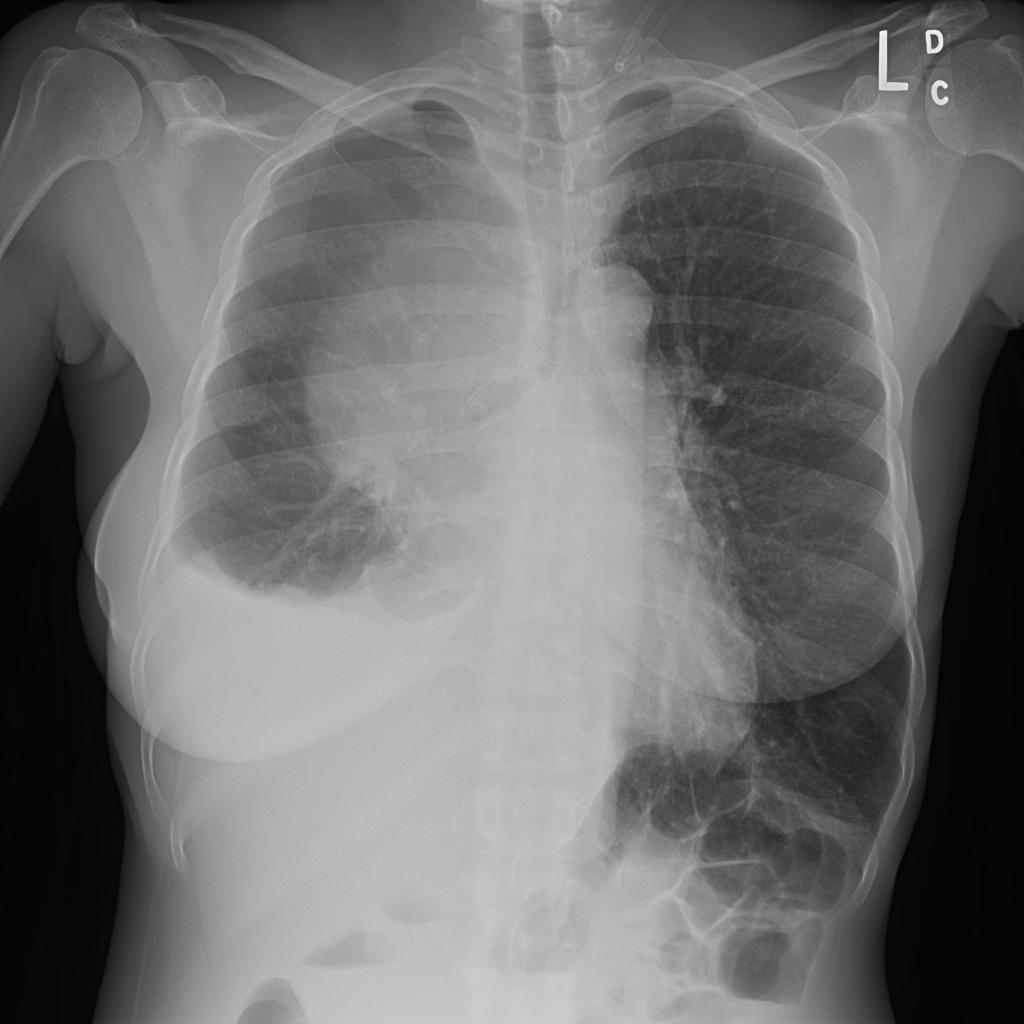Nodule: (166, 198, 201, 227), (166, 273, 196, 301), (354, 202, 385, 225), (370, 174, 395, 193)
